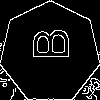B: (25, 27, 69, 61)
